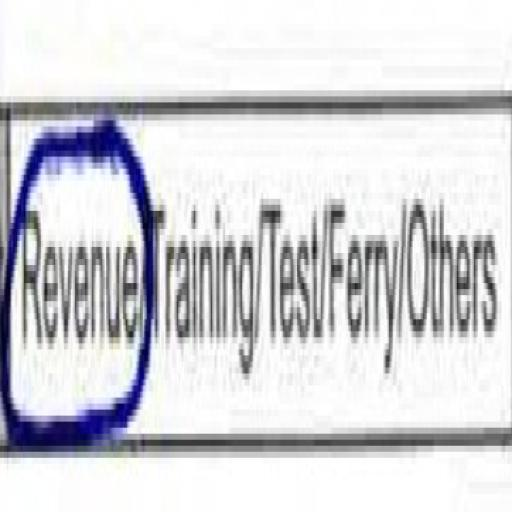check: (1, 0, 150, 512)
